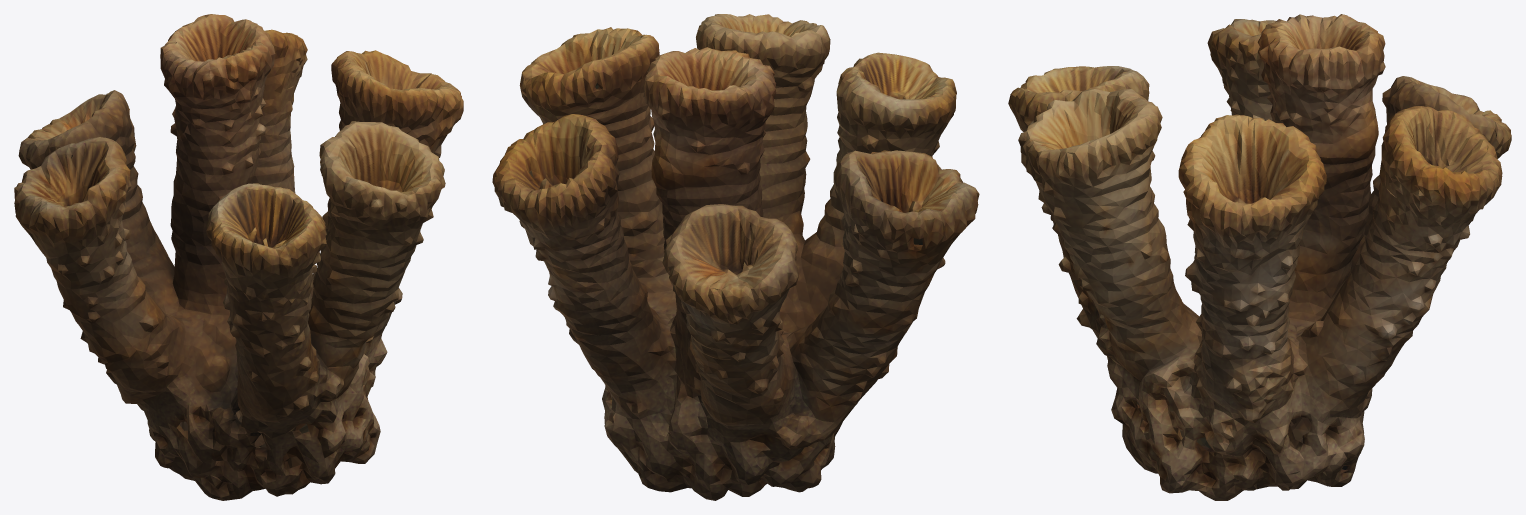
3 views of the same model, side by side, from view 1: azimuth 30°, elevation 25°; view 2: azimuth 150°, elevation 25°; view 3: azimuth 270°, elevation 25° (orthographic). The views are drawn at different scales.
Parts seen in each view (by area): view 1: world; view 2: world; view 3: world.
Boxes of the visible parts, bbox=[...] form: world: bbox=[14, 14, 463, 500]; world: bbox=[492, 14, 979, 500]; world: bbox=[1008, 14, 1511, 500].
Size of the model in its own units: 0.9351 by 0.8942 by 0.8939.
Materials: 1 (1 with a texture image).
